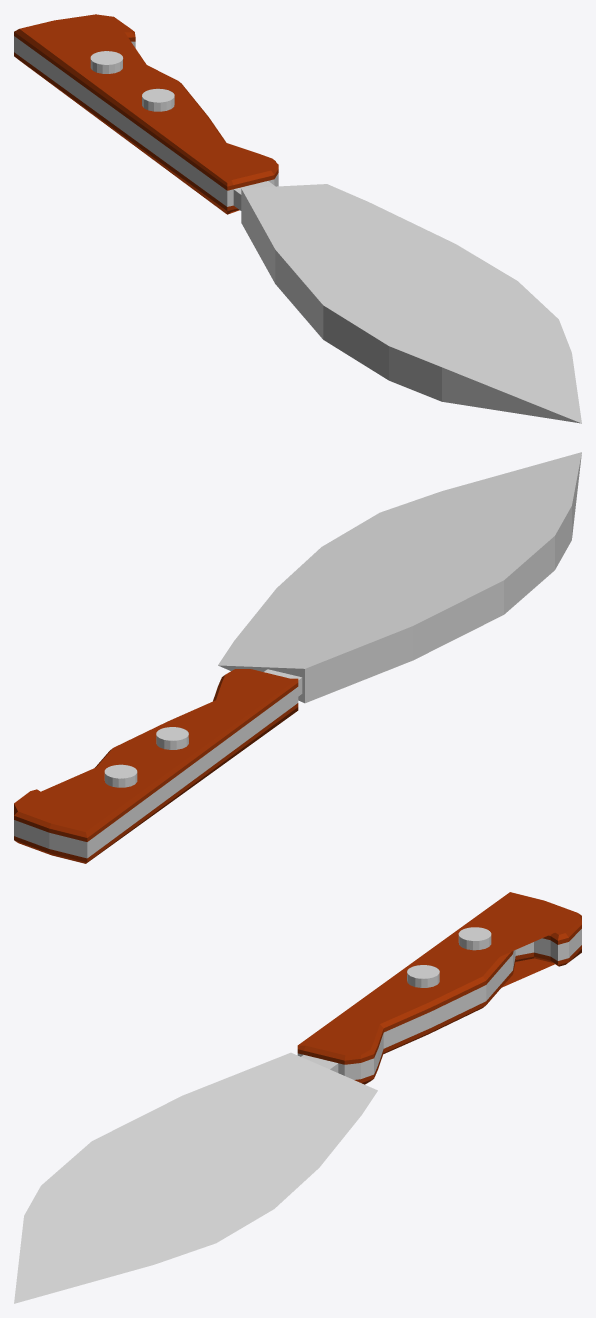
Rendered from Knife (1).fbx.
3 renders of one model, top to bottom at view 1: azimuth 30°, elevation 25°; view 2: azimuth 150°, elevation 25°; view 3: azimuth 330°, elevation 25°, orthographic.
Parts seen in each view (by area): view 1: Cube, Cylinder; view 2: Cube, Cylinder; view 3: Cube, Cylinder.
Boxes of the visible parts, x1=… form: Cube: x1=14, y1=14, x2=581, y2=423; Cylinder: x1=90, y1=51, x2=174, y2=111; Cube: x1=14, y1=452, x2=581, y2=863; Cylinder: x1=104, y1=727, x2=188, y2=787; Cube: x1=14, y1=892, x2=581, y2=1303; Cylinder: x1=407, y1=927, x2=491, y2=987.
Size of the model in its own units: 290 by 73.6 by 1414.
